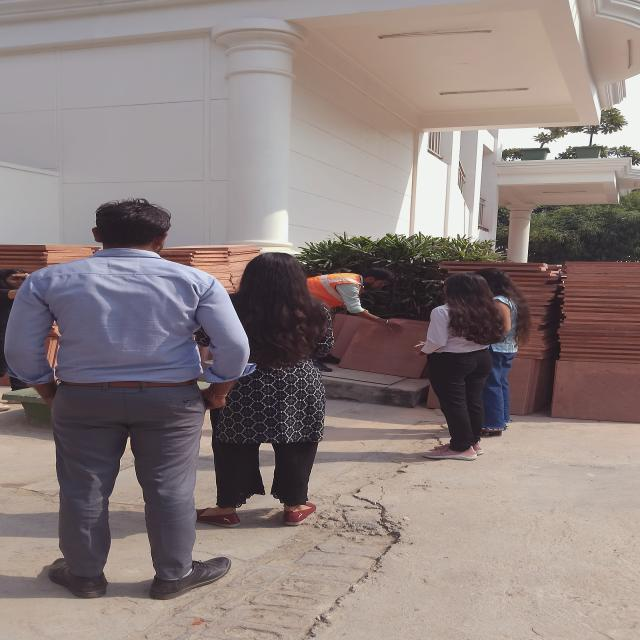unsafe: (7, 198, 228, 596), (212, 250, 338, 529), (418, 272, 507, 462)
